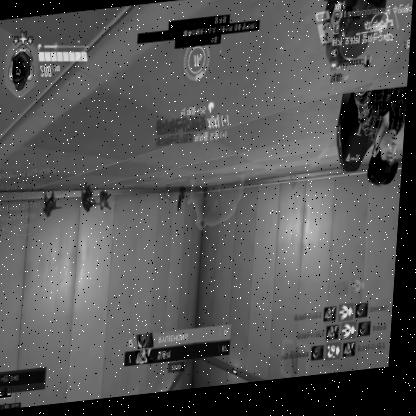streamer: (351, 97, 409, 199)
